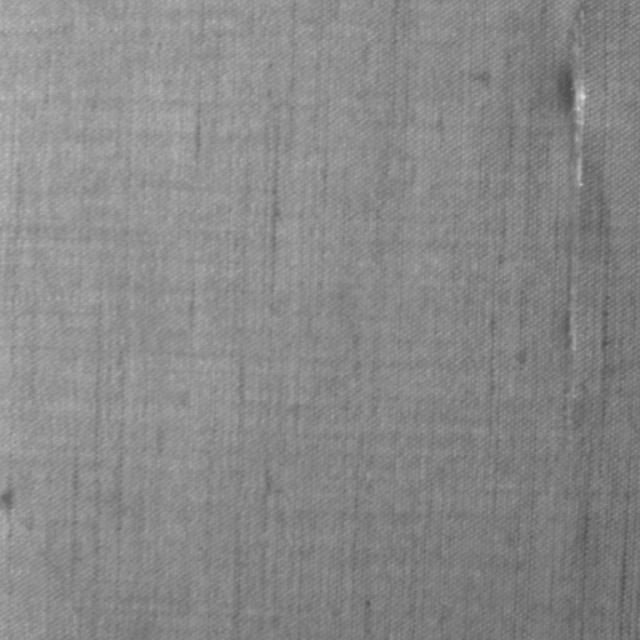thread error: (551, 0, 598, 418)
